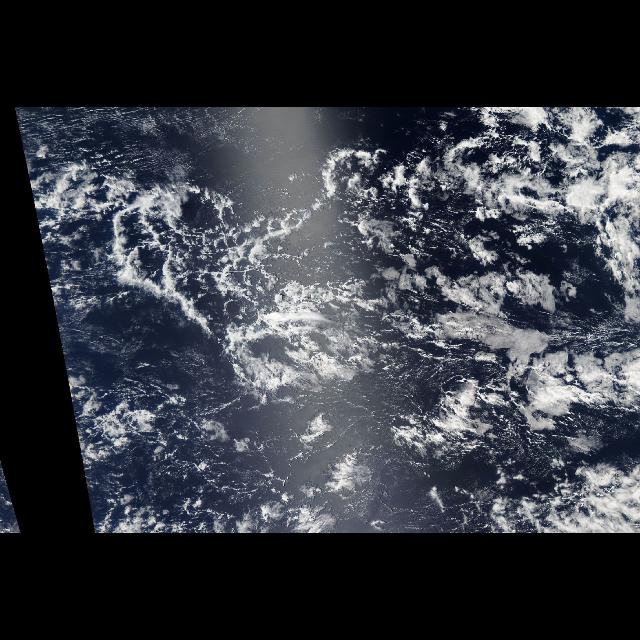Gravel: (89, 396, 291, 532)
Sugar: (12, 107, 306, 165)
